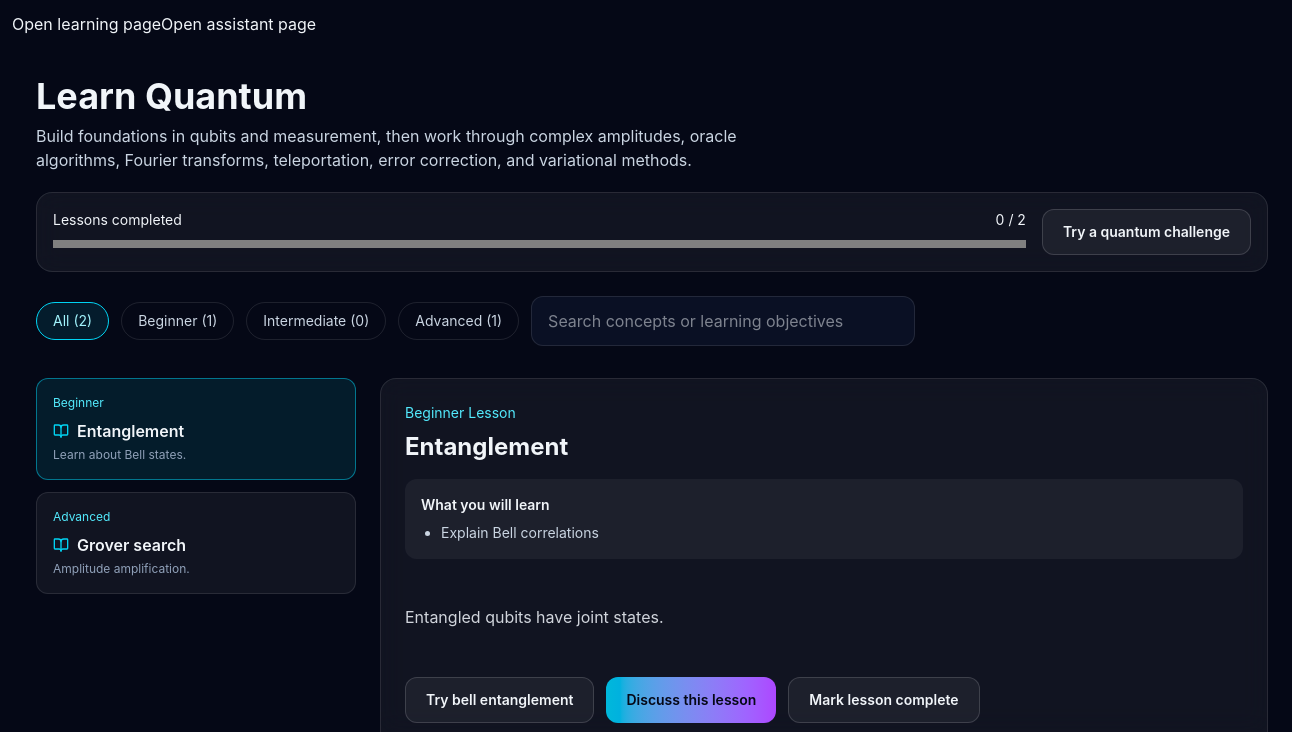
Scenario: keeps the topic when chat is cleared without issuing another automatic overview
Click the link "Discuss this lesson". click: [691, 700]
box: top-left (606, 677), bottom-right (776, 723)
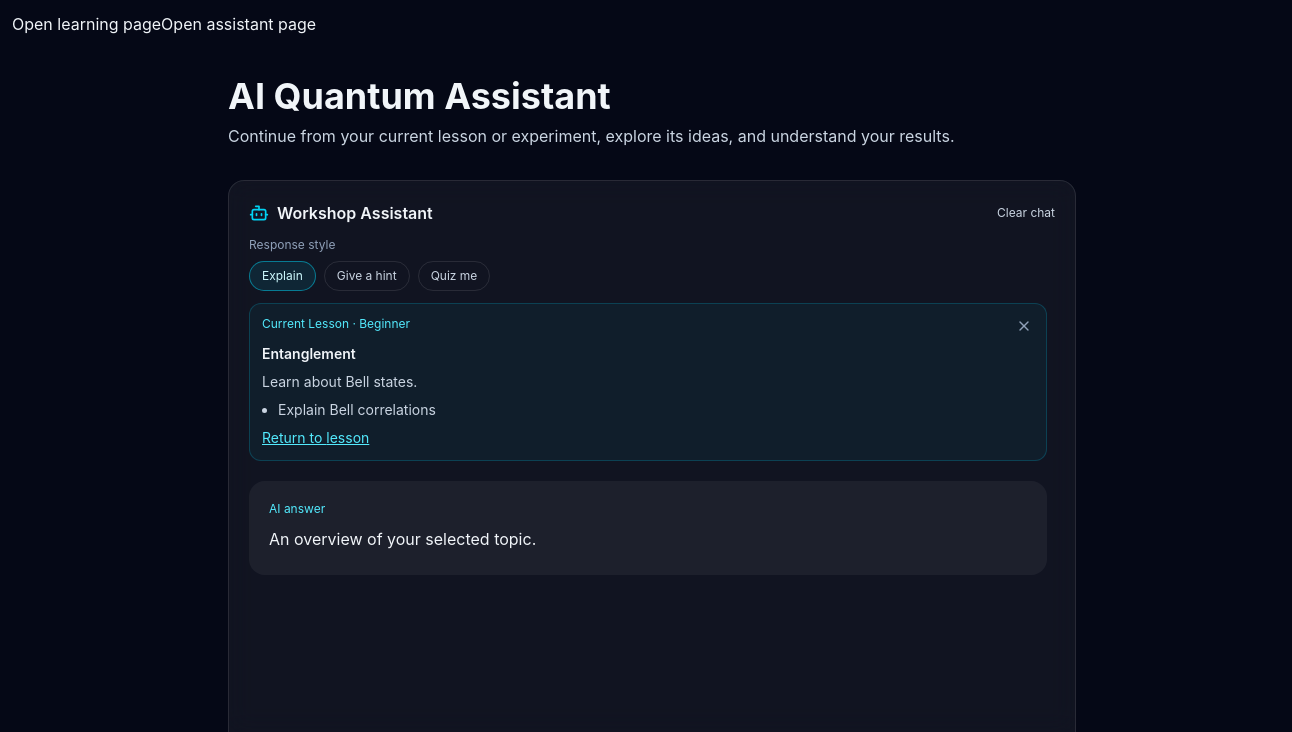
Check: the text "An overview of your selected topic." is shown, box top-left (269, 529), bottom-right (536, 549)
Click the button "Clear chat". click: [1026, 213]
box: top-left (997, 205), bottom-right (1055, 221)
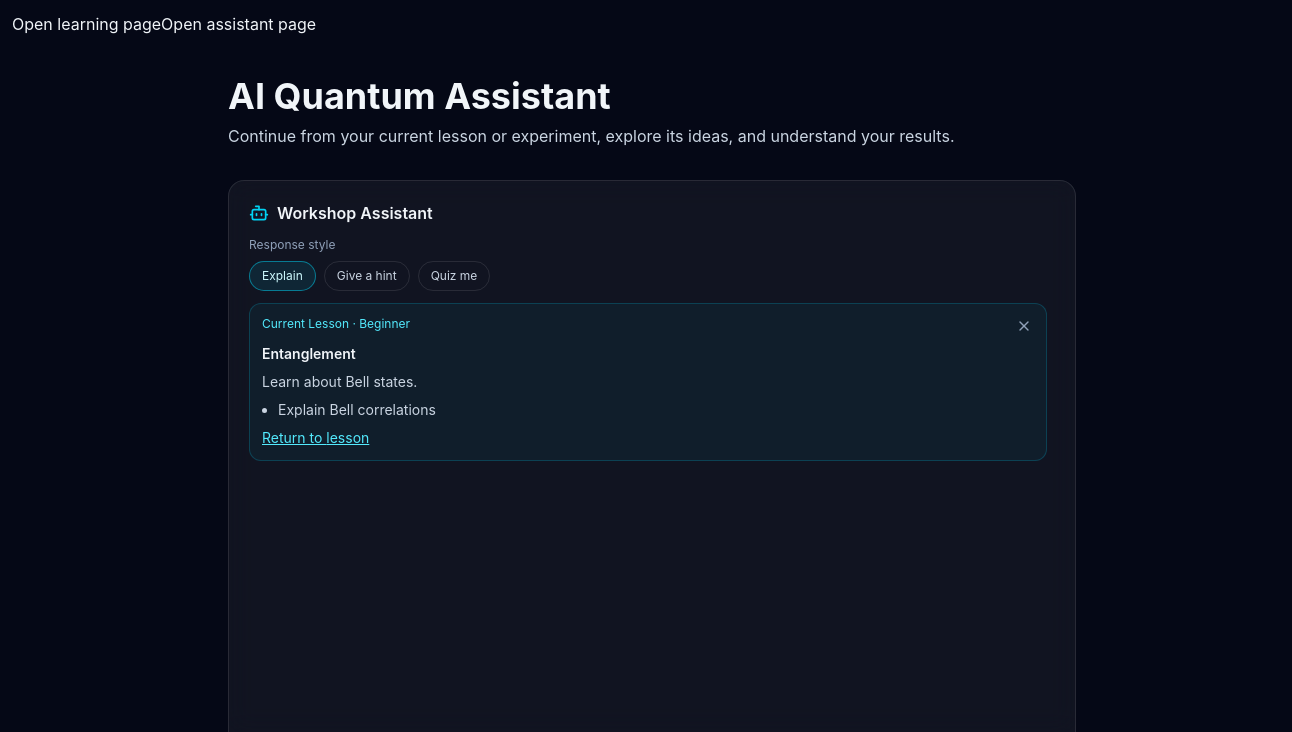
Check: the element named "Current study topic" shows "Entanglement", box top-left (262, 345), bottom-right (356, 362)
Check: the text "An overview of your selected topic." is gone
